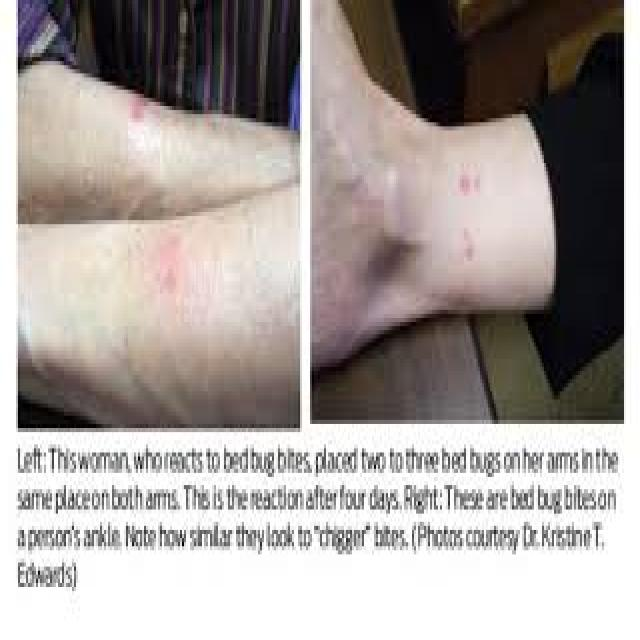kan emici bocekler: (157, 234, 184, 293), (454, 165, 486, 206), (129, 94, 156, 131)
